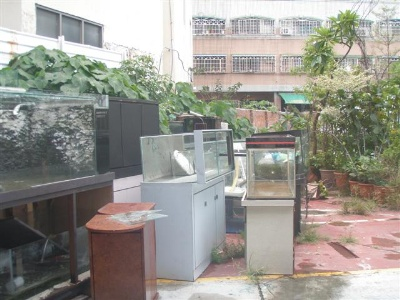aquarium: (1, 88, 98, 203), (139, 129, 235, 183), (245, 135, 295, 198)
